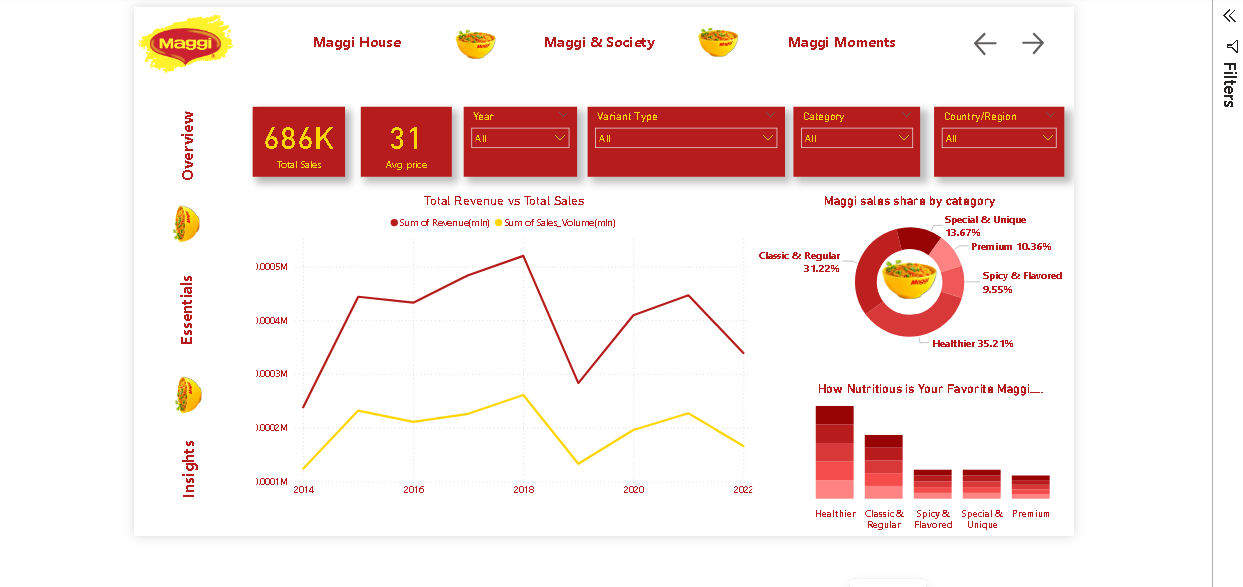

This screenshot's page, from the dashboard's own definition file:
{"tool":"powerbi","page":{"name":"Maggi Essentials","canvas":[1280,720],"ordinal":1},"visuals":[{"type":"card","fields":{"Values":["fact_sales_data.Total_sales_volume"]},"box":[161.2,135.6,125.6,95.6],"z":0},{"type":"card","fields":{"Values":["fact_sales_data.Avg price/pack"]},"box":[308.2,135.6,124.1,95.6],"z":1000},{"type":"donutChart","title":"Maggi sales share by category","fields":{"Y":["Sum(fact_sales_data.Sales Volume (Million Packs))"],"Category":["dim_maggie_varient.Category"]},"box":[846.2,254,419.5,221.2],"z":2000},{"type":"slicer","fields":{"Values":["dim_country_info.Country/Region"]},"box":[1088.8,135.6,176.9,95.6],"z":3000},{"type":"slicer","fields":{"Values":["maggi_trend_2015_2022 new.Year"]},"box":[448.1,135.6,154.1,95.6],"z":4000},{"type":"slicer","fields":{"Values":["dim_maggie_varient.Variant Type"]},"box":[616.5,135.6,268.3,95.6],"z":5000},{"type":"image","box":[0,0,141.9,98.6],"z":6000},{"type":"textbox","box":[238.3,27.1,139.8,40],"z":7000},{"type":"textbox","box":[552.2,27.1,176.9,40],"z":8000},{"type":"textbox","box":[884.7,27.1,169.8,40],"z":9000},{"type":"slicer","fields":{"Values":["dim_maggie_varient.Category"]},"box":[897.6,135.6,172.7,95.6],"z":10000},{"type":"columnChart","title":"      How Nutritious is Your Favorite Maggi......","fields":{"Category":["dim_maggie_varient.Category"],"Y":["CountNonNull(dim_nutrition_info.Calories (per 100g))","CountNonNull(dim_nutrition_info.Carbohydrates (g))","CountNonNull(dim_nutrition_info.Fat (g))","CountNonNull(dim_nutrition_info.Protein (g))","CountNonNull(dim_nutrition_info.Sodium (mg))"]},"box":[887.6,509.4,392.4,211.2],"z":11000},{"type":"lineChart","title":"Total Revenue vs Total Sales","fields":{"Category":["maggi_trend_2015_2022 new.Year"],"Y":["Sum(maggi_trend_2015_2022 new.Revenue_Crore)","Sum(maggi_trend_2015_2022 new.Sales_Volume_Million)"]},"box":[161.2,254,684.9,422.4],"z":12000},{"type":"image","box":[1013.2,319.6,84.2,99.9],"z":13000},{"type":"actionButton","box":[1203.3,29.8,51,39.7],"z":14000},{"type":"actionButton","box":[1138.1,29.8,52.4,41.1],"z":15000},{"type":"image","box":[432.4,14.3,64.2,71.3],"z":16000},{"type":"image","box":[763.4,11.4,64.2,71.3],"z":17000},{"type":"image","box":[47.1,254,47.1,81.3],"z":18000},{"type":"actionButton","box":[53.3,580.3,41.8,96.5],"z":19000},{"type":"image","box":[49.9,486.6,47.1,82.8],"z":20000},{"type":"actionButton","title":"Find Your Maggi →","box":[53.3,324,41.8,174.2],"z":21000},{"type":"actionButton","title":"Find Your Maggi →","box":[53.3,136.8,41.8,105.1],"z":22000}]}

Visuals, with their boxes on the page's 1280x720 design canvas (x1, y1, x2, y2). These are canvas units, not pixel positions in the 1243x587 screenshot, which may show the page scaled, cropped or inside an application window:
card - fact_sales_data.Total_sales_volume: Rect(161, 136, 287, 231)
card - fact_sales_data.Avg price/pack: Rect(308, 136, 432, 231)
"Maggi sales share by category" donutChart: Rect(846, 254, 1266, 475)
slicer - dim_country_info.Country/Region: Rect(1089, 136, 1266, 231)
slicer - maggi_trend_2015_2022 new.Year: Rect(448, 136, 602, 231)
slicer - dim_maggie_varient.Variant Type: Rect(616, 136, 885, 231)
image: Rect(0, 0, 142, 99)
textbox: Rect(238, 27, 378, 67)
textbox: Rect(552, 27, 729, 67)
textbox: Rect(885, 27, 1054, 67)
slicer - dim_maggie_varient.Category: Rect(898, 136, 1070, 231)
"      How Nutritious is Your Favorite Maggi......" columnChart: Rect(888, 509, 1280, 721)
"Total Revenue vs Total Sales" lineChart: Rect(161, 254, 846, 676)
image: Rect(1013, 320, 1097, 420)
actionButton: Rect(1203, 30, 1254, 70)
actionButton: Rect(1138, 30, 1190, 71)
image: Rect(432, 14, 497, 86)
image: Rect(763, 11, 828, 83)
image: Rect(47, 254, 94, 335)
actionButton: Rect(53, 580, 95, 677)
image: Rect(50, 487, 97, 569)
"Find Your Maggi →" actionButton: Rect(53, 324, 95, 498)
"Find Your Maggi →" actionButton: Rect(53, 137, 95, 242)
